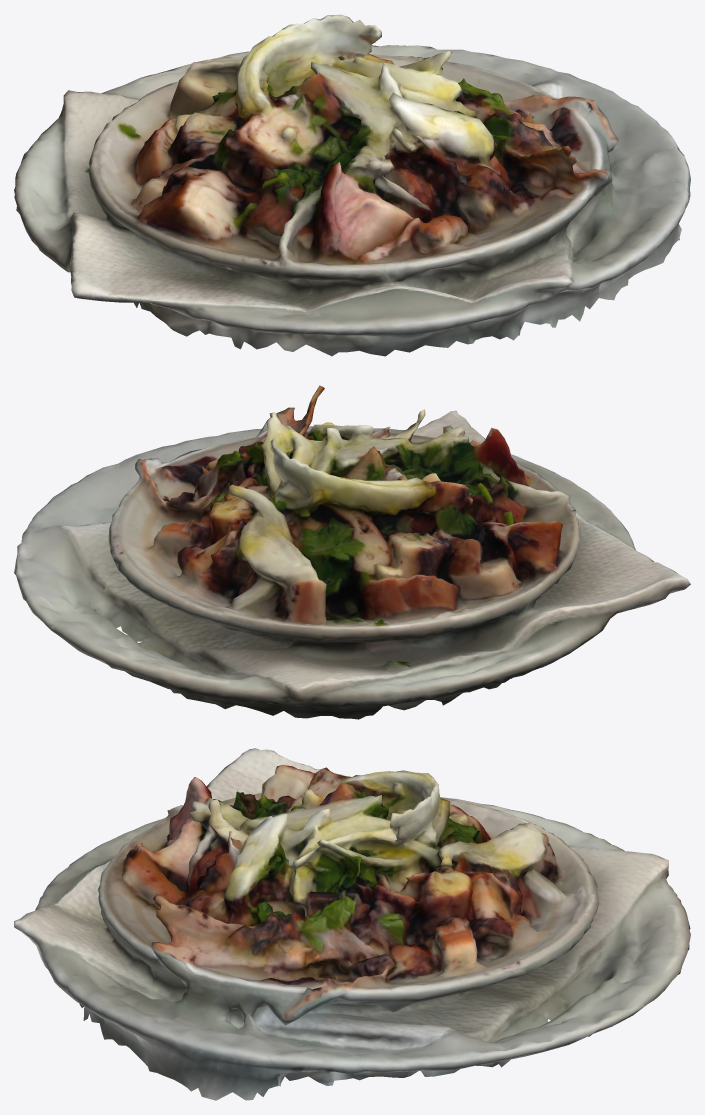
The model's file is hobotnica-peka.glb.
The picture shows the model from 3 angles, top to bottom: view 1: azimuth 30°, elevation 25°; view 2: azimuth 150°, elevation 25°; view 3: azimuth 270°, elevation 25°; orthographic projection. The views are drawn at different scales.
Parts seen in each view (by area): view 1: hobotnica-peka; view 2: hobotnica-peka; view 3: hobotnica-peka.
Part boxes in pixels (x1,y1,x2,y2): hobotnica-peka: (14,14,690,356); hobotnica-peka: (14,385,690,719); hobotnica-peka: (14,748,690,1100).
Bounding box in the file's own units: 0.2244 × 0.0671 × 0.2145.
1 material, 1 textured.
